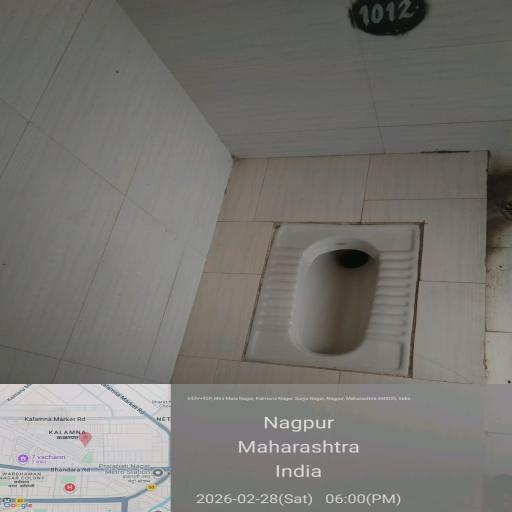clean_floor: (3, 11, 507, 193), (7, 203, 232, 503)
clean_indian: (240, 202, 444, 377)
